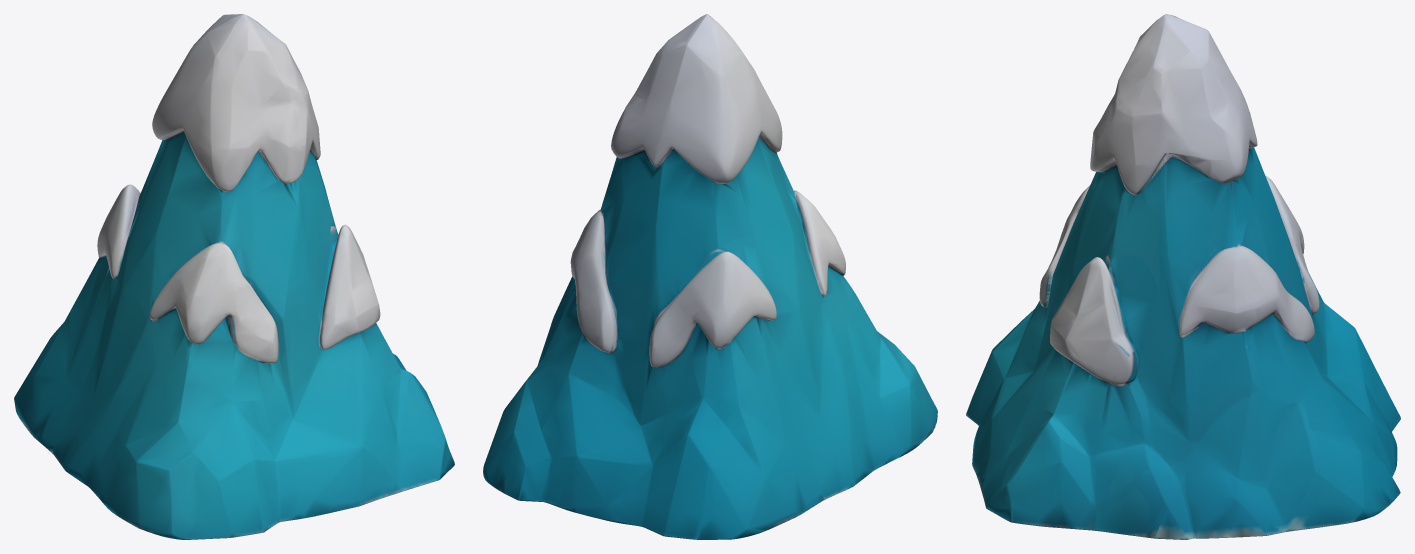
File: bigRock2.fbx
The picture shows the model from 3 angles, left to right: view 1: azimuth 30°, elevation 25°; view 2: azimuth 150°, elevation 25°; view 3: azimuth 270°, elevation 25°; orthographic projection. The views are drawn at different scales.
Parts seen in each view (by area): view 1: node_0.001; view 2: node_0.001; view 3: node_0.001.
Part boxes in pixels (x1=…): node_0.001: x1=14, y1=14, x2=454, y2=539; node_0.001: x1=483, y1=14, x2=937, y2=539; node_0.001: x1=966, y1=14, x2=1400, y2=539.
Bounding box in the file's own units: 0.4888 × 0.5867 × 0.5249.
Materials: 1 (1 with a texture image).
